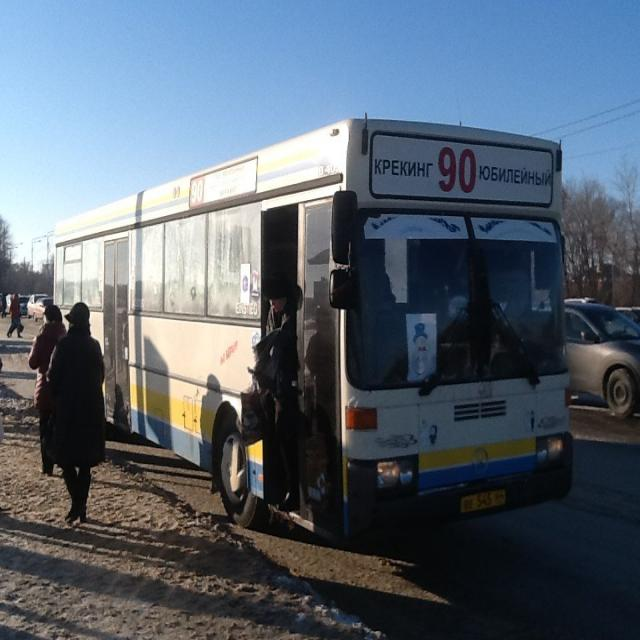number-of-bus: (438, 146, 479, 196)
